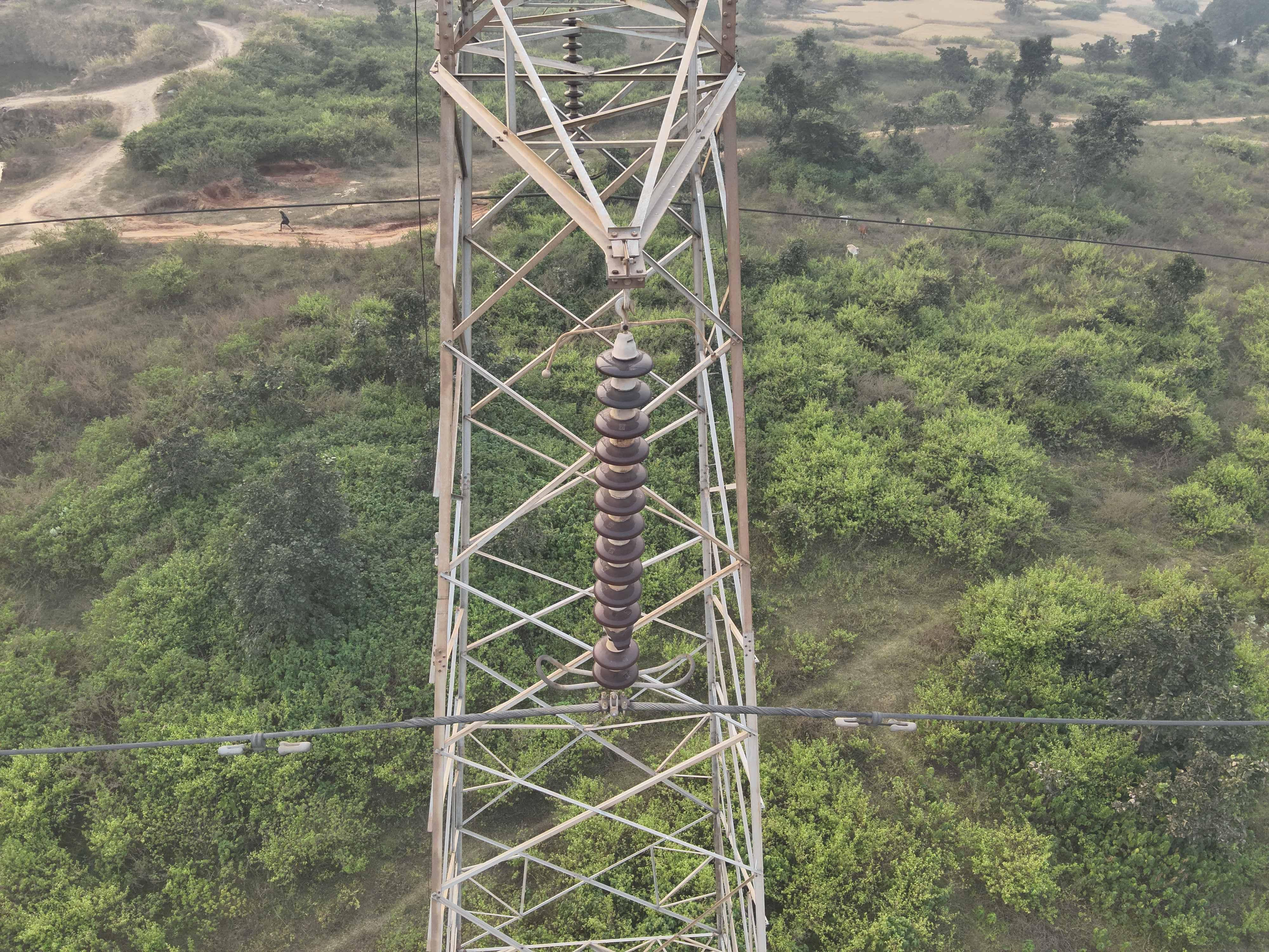broken_insulator: (601, 628, 639, 651)
